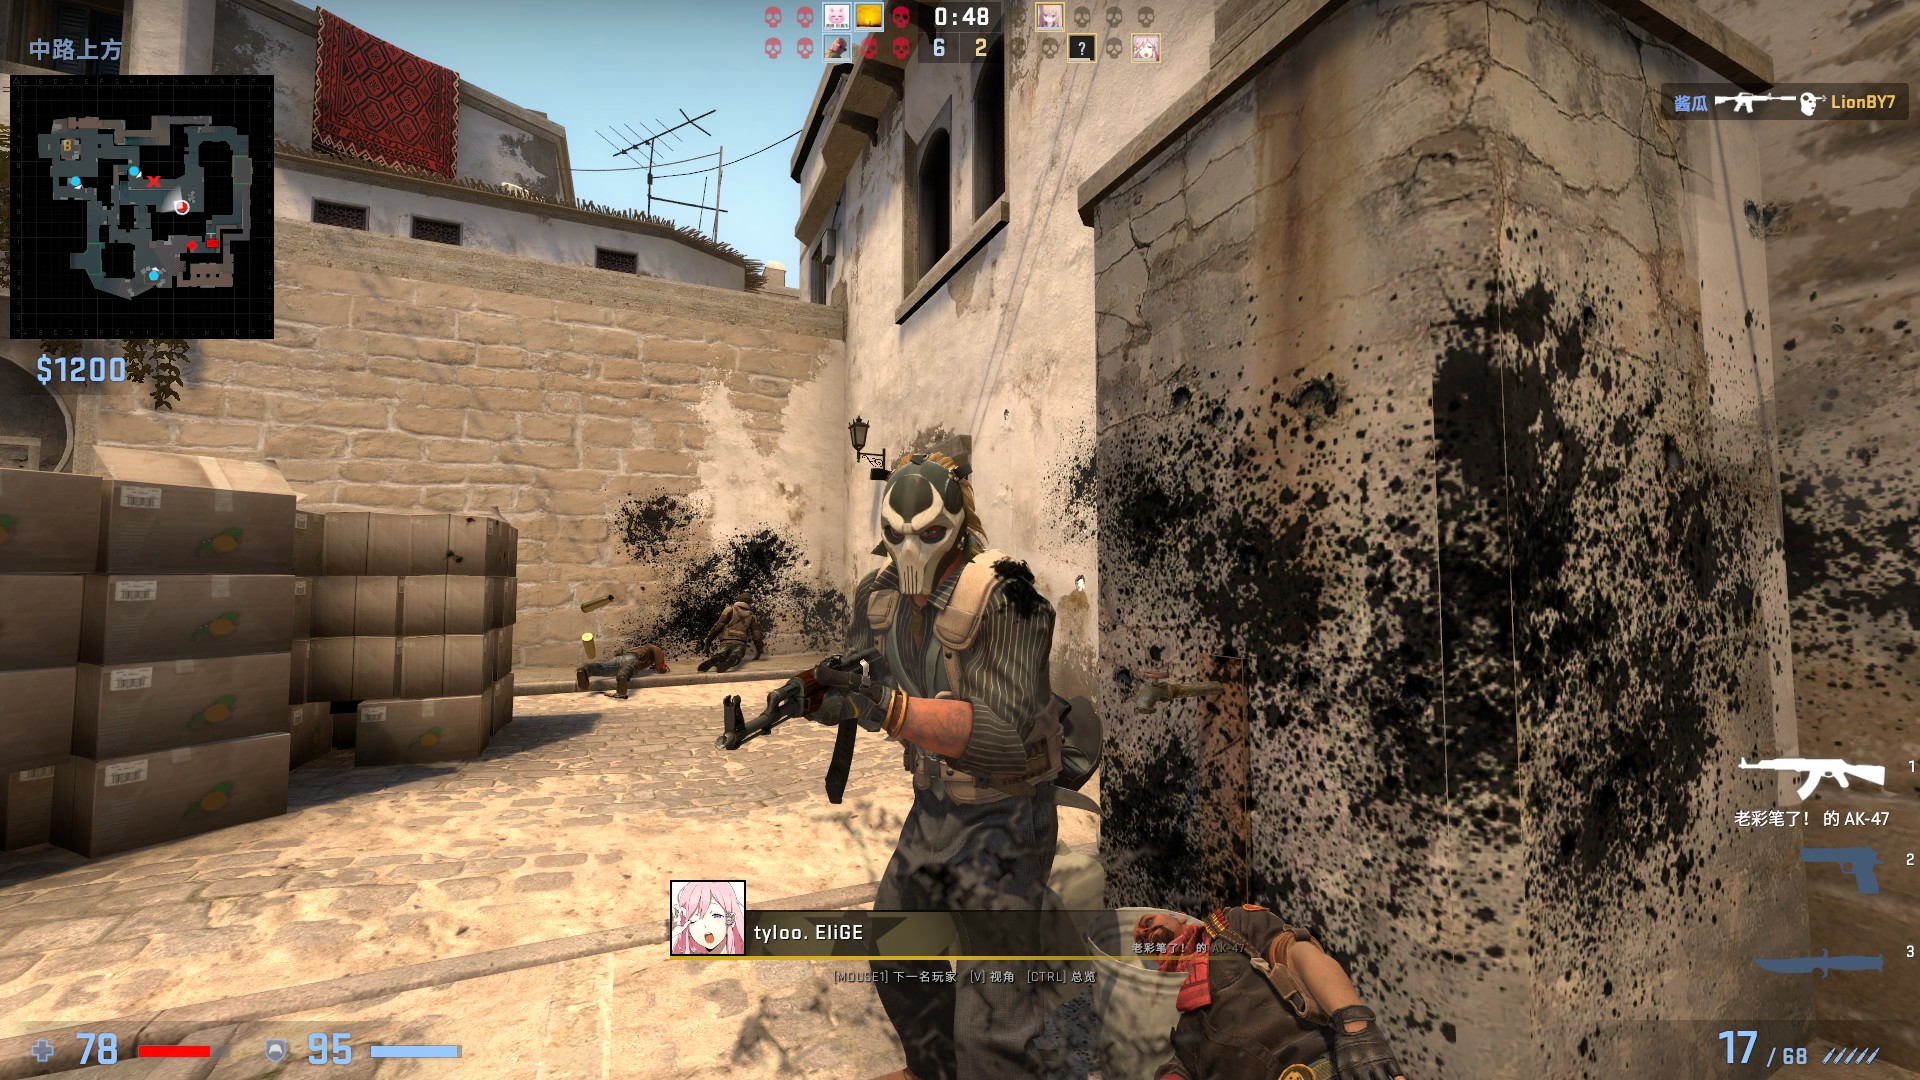head: (869, 445, 983, 601), (1129, 907, 1189, 963), (735, 586, 759, 608)
